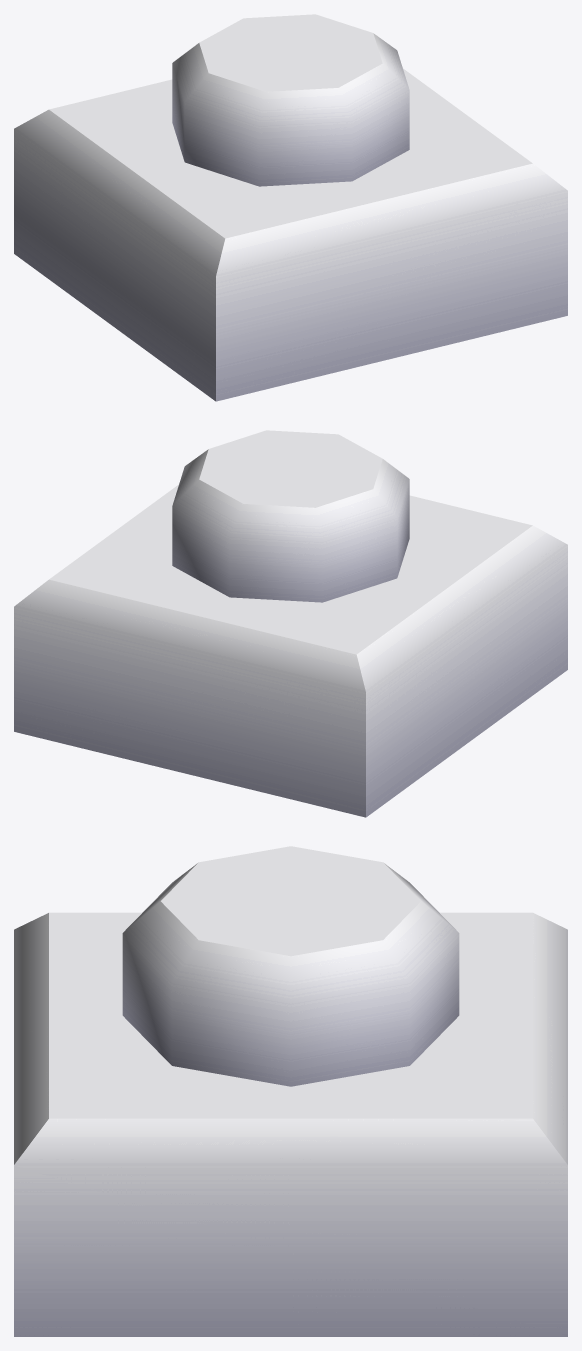
Rendered from round-hq-plate-1x1.glb.
3 renders of one model, top to bottom at view 1: azimuth 30°, elevation 25°; view 2: azimuth 150°, elevation 25°; view 3: azimuth 270°, elevation 25°, orthographic. The views are drawn at different scales.
Visible parts, largest first — view 1: round-hq-plate-1x1; view 2: round-hq-plate-1x1; view 3: round-hq-plate-1x1.
Part boxes in pixels (x1,y1,x2,y2): round-hq-plate-1x1: (14, 14, 567, 401); round-hq-plate-1x1: (14, 430, 567, 817); round-hq-plate-1x1: (14, 846, 567, 1336).
Size of the model in its own units: 0.3975 by 0.25 by 0.395.
1 material, 1 textured.
